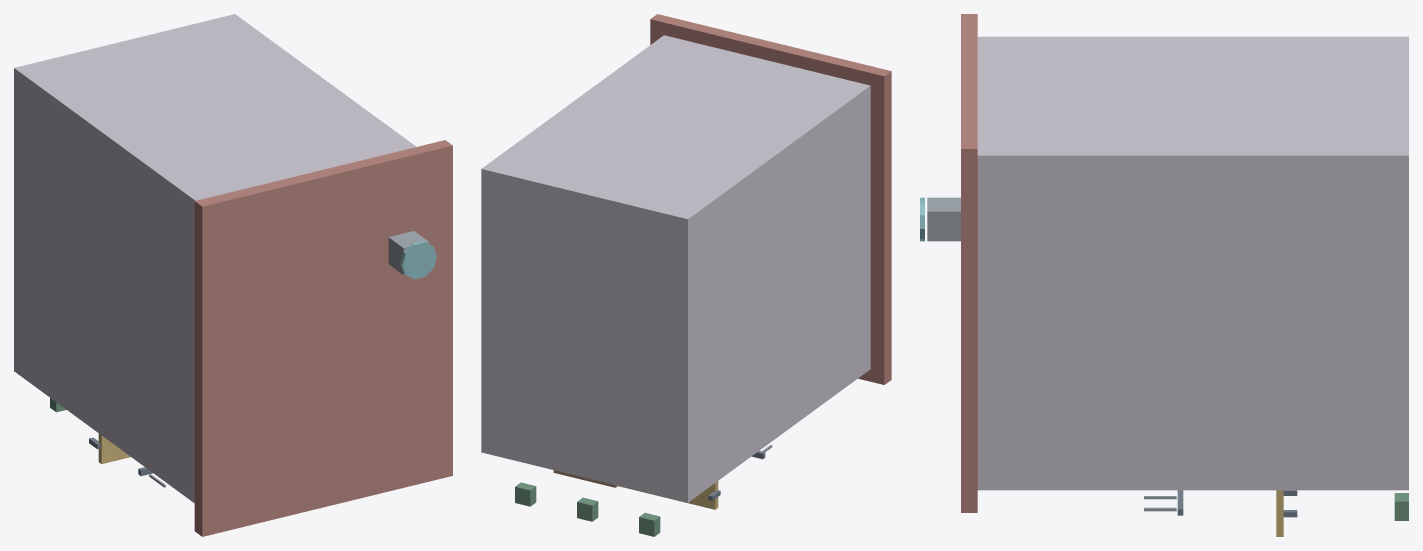
Rendered from school_block.glb.
3 views of the same model, side by side, from view 1: azimuth 30°, elevation 25°; view 2: azimuth 150°, elevation 25°; view 3: azimuth 270°, elevation 25° (orthographic). The views are drawn at different scales.
Visible parts, largest first — view 1: wall4, roof, glass, metal2, sun; view 2: wall4, roof, green, sun; view 3: wall4, roof, metal2.
Boxes of the visible parts, box(x1,y1,x2,y2) form: wall4: box(14, 14, 416, 502); roof: box(194, 140, 452, 536); glass: box(400, 241, 436, 279); metal2: box(149, 231, 429, 487); sun: box(98, 433, 130, 463); wall4: box(481, 35, 870, 502); roof: box(650, 14, 891, 384); green: box(515, 482, 660, 536); sun: box(618, 481, 718, 509); wall4: box(977, 36, 1408, 490); roof: box(961, 14, 977, 512); metal2: box(927, 197, 1176, 511).
Size of the model in its own units: 6.81 by 9.68 by 10.43.
